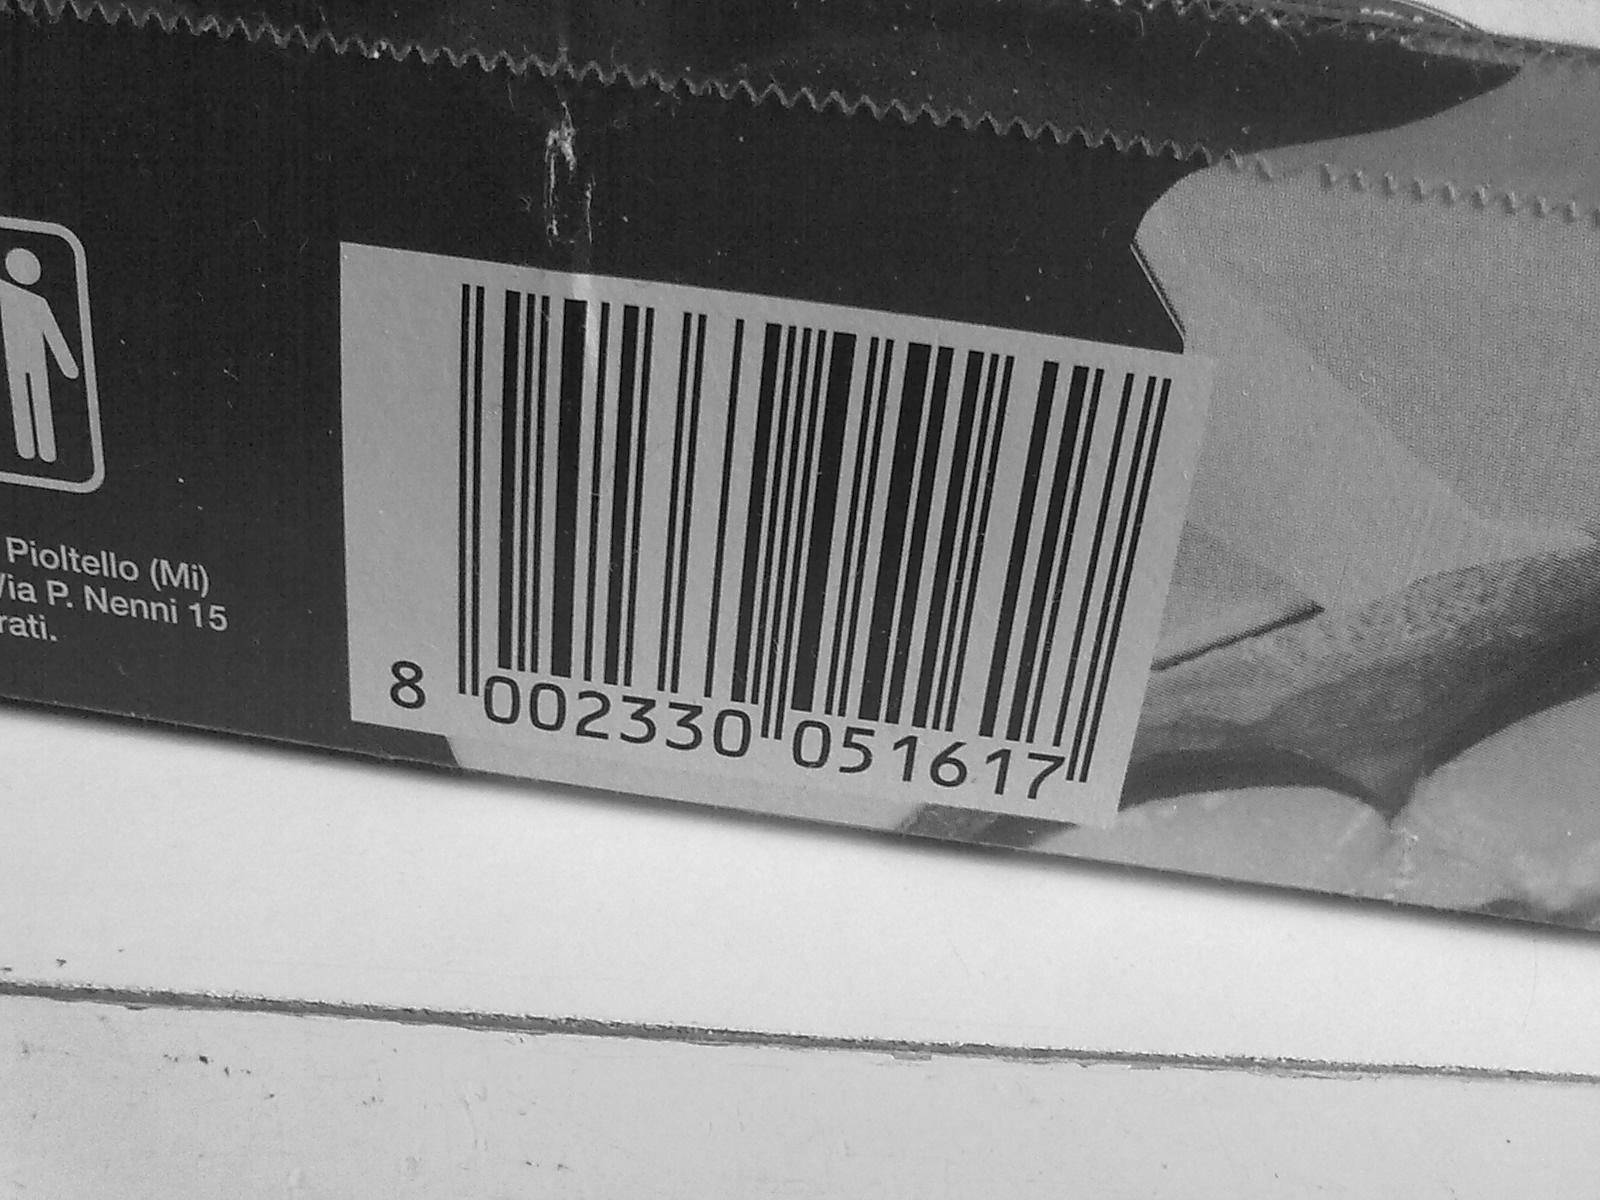Barcode: (360, 339, 1240, 709)
